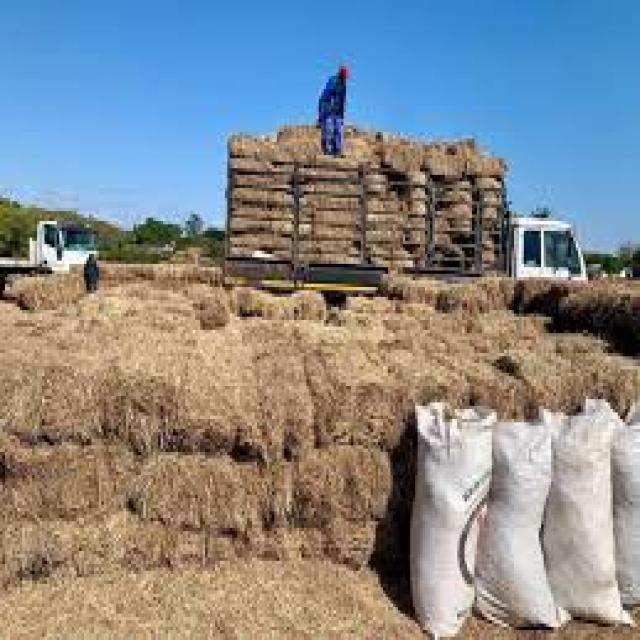uncovered: (225, 125, 590, 352)
